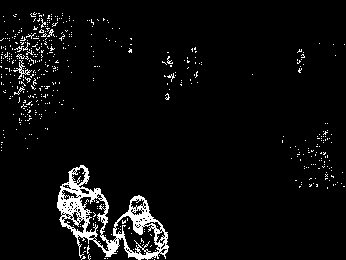person: (57, 162, 111, 260), (104, 194, 170, 260)
